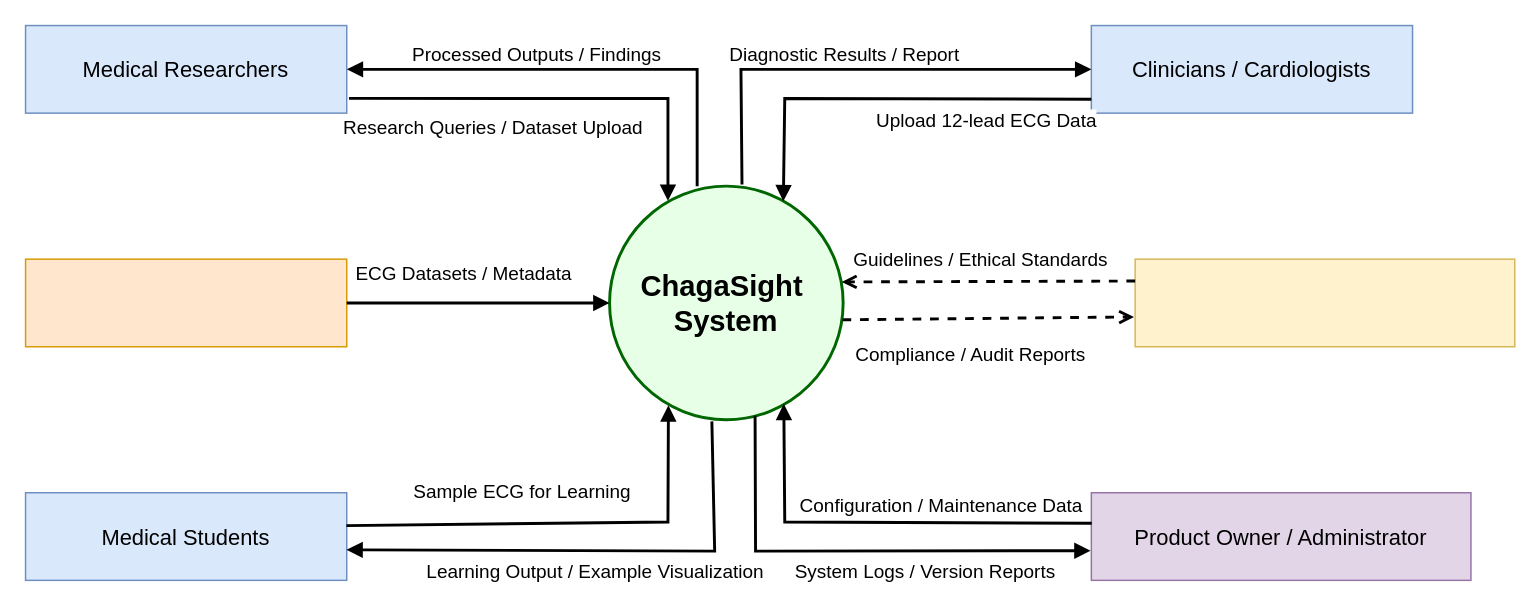
This 1540x610 diagram has some shape labels left out. Each missing label, with the centre of its shape:
"Health Regulatory Bodies" goes at point 1324,302.
"Hospitals / ECG Data Sources" goes at point 185,302.
